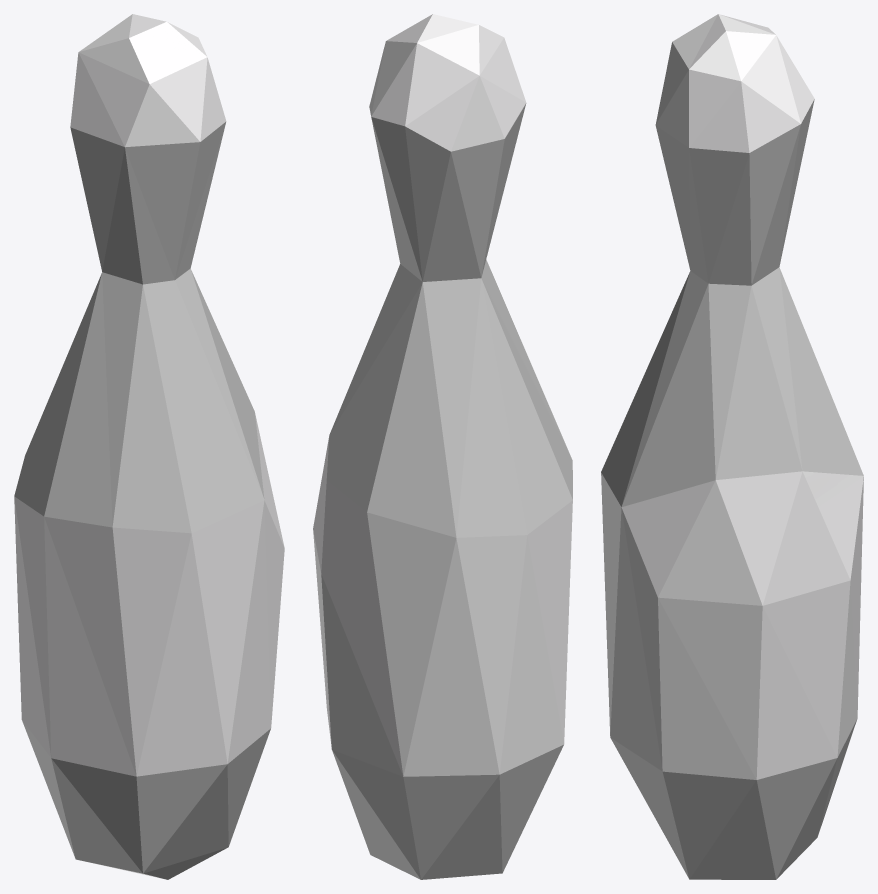
File: BowlingPin.fbx
The picture shows the model from 3 angles, left to right: view 1: azimuth 30°, elevation 25°; view 2: azimuth 150°, elevation 25°; view 3: azimuth 270°, elevation 25°; orthographic projection.
Visible parts, largest first — view 1: Circle; view 2: Circle; view 3: Circle.
Boxes of the visible parts, x1,y1,x2,y2 form: Circle: [14, 14, 284, 879]; Circle: [313, 14, 572, 879]; Circle: [601, 14, 863, 879].
Bounding box in the file's own units: 3.09 × 10.69 × 3.02.
